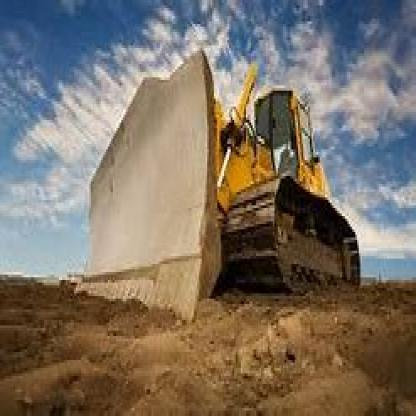bull_dozer/loader/grader: (72, 35, 408, 344)
